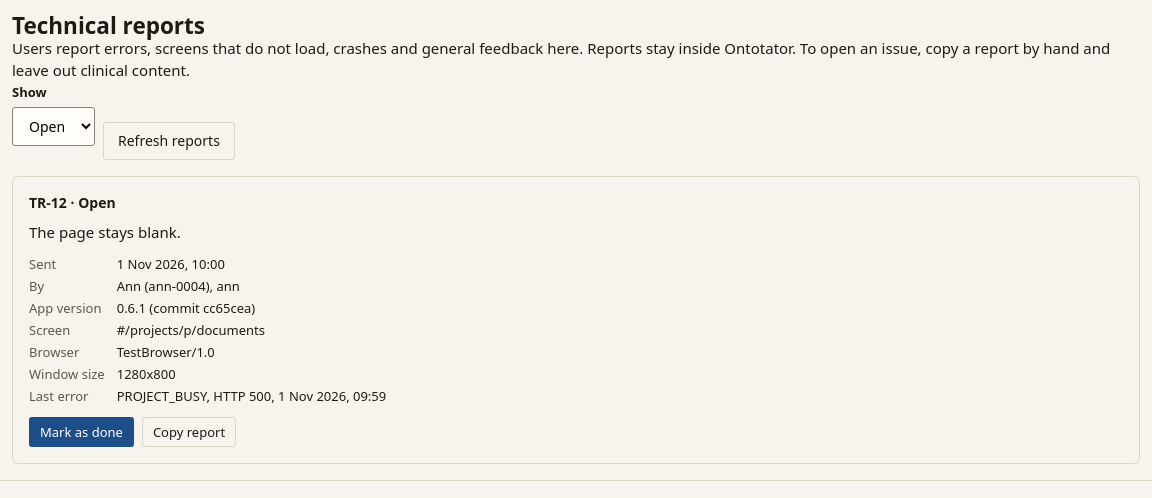
Scenario: Technical reports page › lists open reports with their context and marks one as done
The width and height of the screenshot is (1152, 498).
Expected: the text "The page stays blank." is shown, x1=29 y1=222 x2=181 y2=242
Expected: the text "Ann (ann-0004), ann" is shown, x1=117 y1=277 x2=240 y2=295
Click the button "Mark as done": (81,432) x1=29 y1=417 x2=134 y2=447
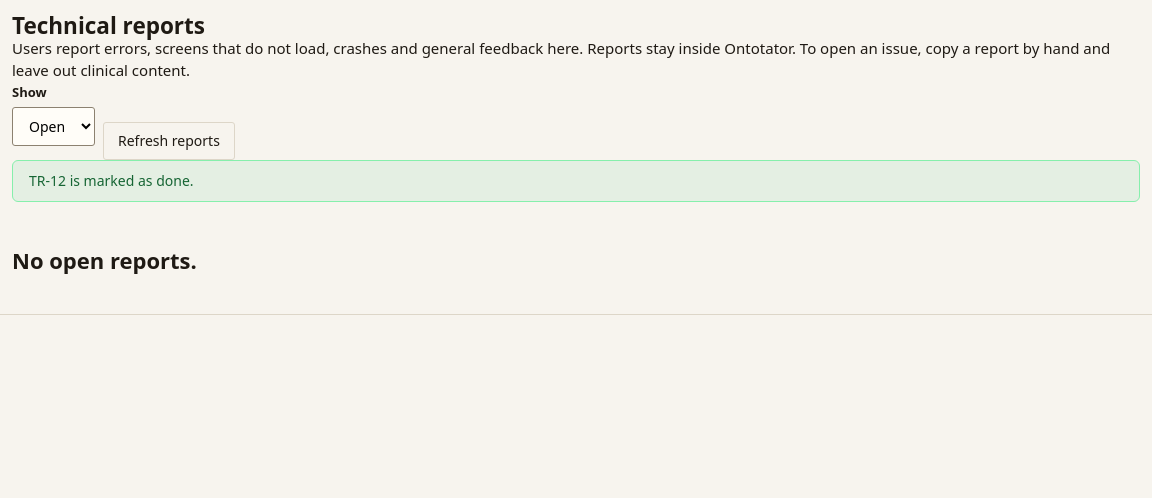
Result: the text "TR-12 is marked as done." is shown at x1=29 y1=171 x2=194 y2=191
